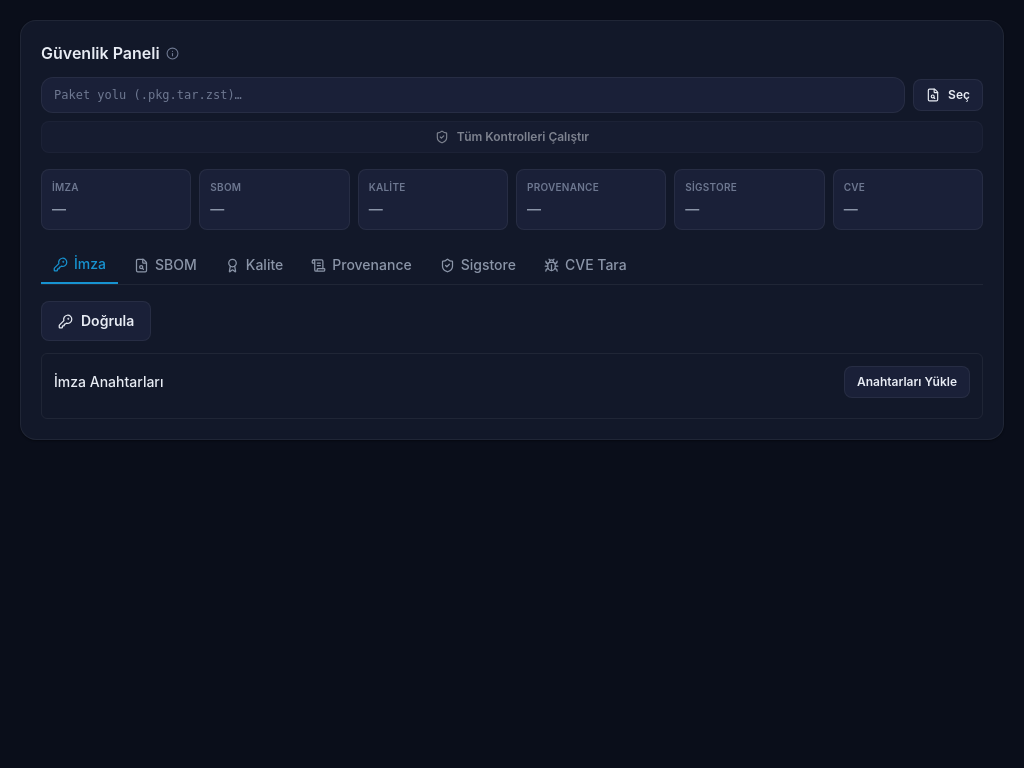
Scenario: Security page › shows signature result after verify
This screenshot has width=1024, height=768.
Type "/tmp/x.pkg.tar.zst" into the field with placeholder "Paket yolu (.pkg.tar.zst)…" at coordinates (473, 95), box x1=41 y1=77 x2=905 y2=113
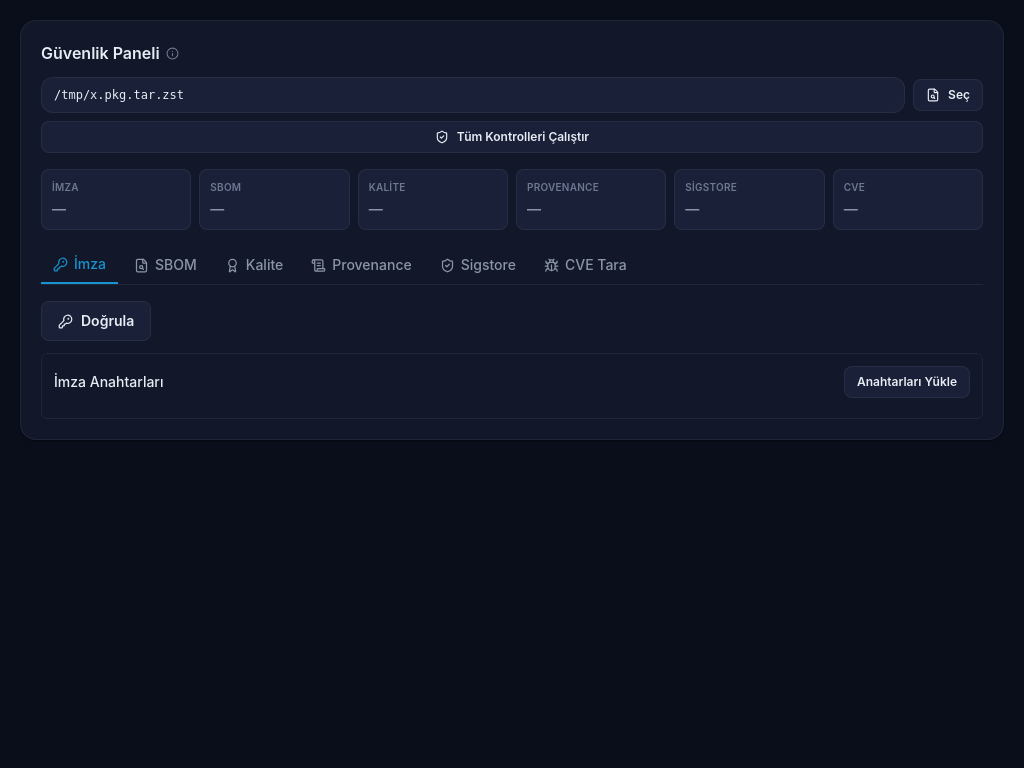
Click the button "Doğrula" at coordinates (96, 321), box x1=41 y1=301 x2=151 y2=341
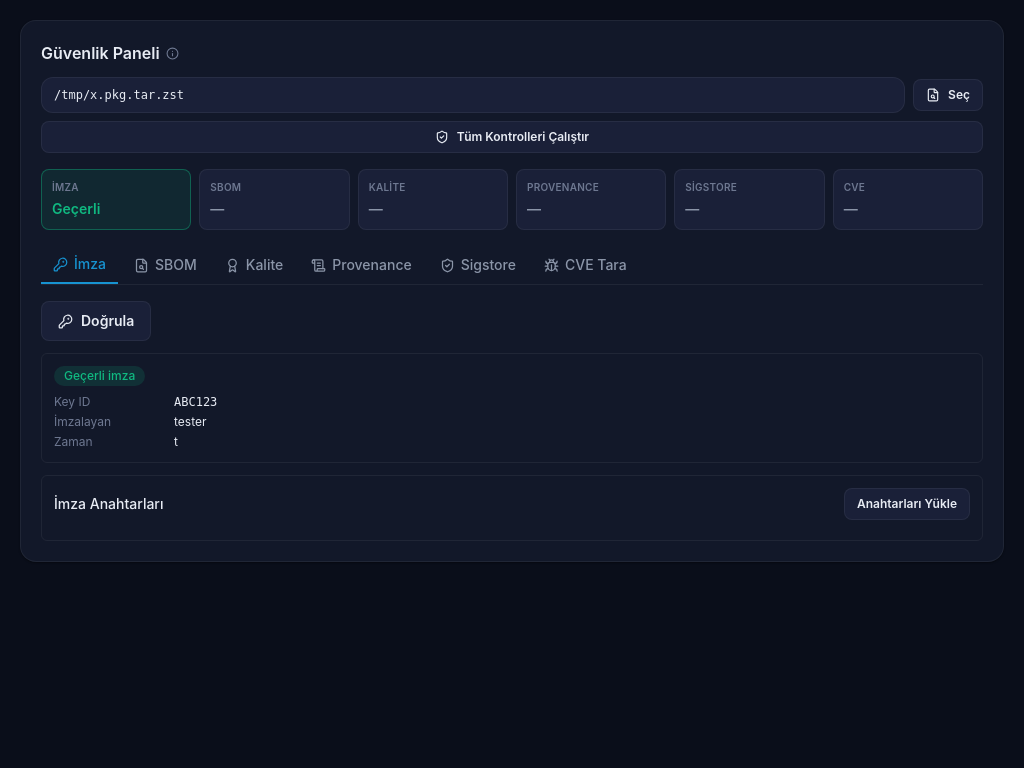
Expected: the text "ABC123" is shown, x1=174 y1=395 x2=217 y2=409
